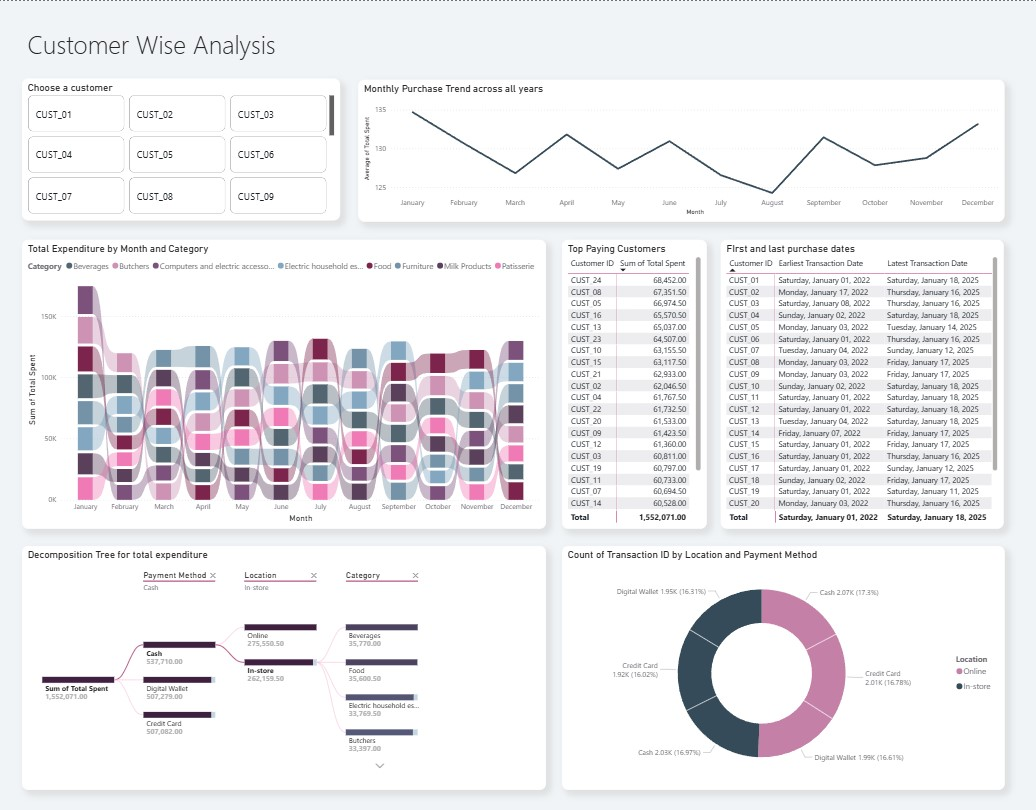

The dashboard page shown, as its layout file describes it:
{"tool":"powerbi","page":{"name":"Customer Wise Analysis","canvas":[1880,1520],"ordinal":1},"visuals":[{"type":"advancedSlicerVisual","title":"Choose a customer","fields":{"Values":["Retail_data.Customer ID"]},"box":[102.3,132.5,541.7,241.7],"z":0},{"type":"lineChart","title":"Monthly Purchase Trend across all years","fields":{"Category":["Retail_data.Transaction Date.Variation.Date Hierarchy.Month"],"Y":["Avg(Retail_data.Total Spent)"]},"box":[673.7,134.2,1100,241.7],"z":1000},{"type":"ribbonChart","title":"Total Expenditure by Month and Category","fields":{"Category":["Retail_data.Transaction Date.Variation.Date Hierarchy.Month"],"Y":["Sum(Retail_data.Total Spent)"],"Series":["Retail_data.Category"]},"box":[102.3,405.5,891.7,491.7],"z":2000},{"type":"decompositionTreeVisual","title":"Decomposition Tree for total expenditure","fields":{"Analyze":["Sum(Retail_data.Total Spent)"],"ExplainBy":["Retail_data.Payment Method","Retail_data.Location","Retail_data.Category"]},"box":[102.3,926.9,891.7,415],"z":3000},{"type":"donutChart","fields":{"Category":["Retail_data.Location"],"Y":["CountNonNull(Retail_data.Transaction ID)"],"Series":["Retail_data.Payment Method"]},"box":[1020.3,926.9,753.3,415],"z":4000},{"type":"pivotTable","title":"Top Paying Customers","fields":{"Rows":["Retail_data.Customer ID"],"Values":["Sum(Retail_data.Total Spent)"]},"box":[1020.3,407.2,246.7,491.7],"z":5000},{"type":"pivotTable","title":"FIrst and last purchase dates","fields":{"Rows":["Retail_data.Customer ID"],"Values":["Min(Retail_data.Transaction Date)","Max(Retail_data.Transaction Date)"]},"box":[1292,405.5,481.7,491.7],"z":6000},{"type":"textbox","box":[106,38,542.5,75],"z":7000}]}

Visuals, with their boxes on the page's 1880x1520 design canvas (x1, y1, x2, y2). These are canvas units, not pixel positions in the 1036x810 screenshot, which may show the page scaled, cropped or inside an application window:
"Choose a customer" advancedSlicerVisual: <box>102,132,644,374</box>
"Monthly Purchase Trend across all years" lineChart: <box>674,134,1774,376</box>
"Total Expenditure by Month and Category" ribbonChart: <box>102,406,994,897</box>
"Decomposition Tree for total expenditure" decompositionTreeVisual: <box>102,927,994,1342</box>
donutChart - Retail_data.Location x CountNonNull(Retail_data.Transaction ID): <box>1020,927,1774,1342</box>
"Top Paying Customers" pivotTable: <box>1020,407,1267,899</box>
"FIrst and last purchase dates" pivotTable: <box>1292,406,1774,897</box>
textbox: <box>106,38,648,113</box>
